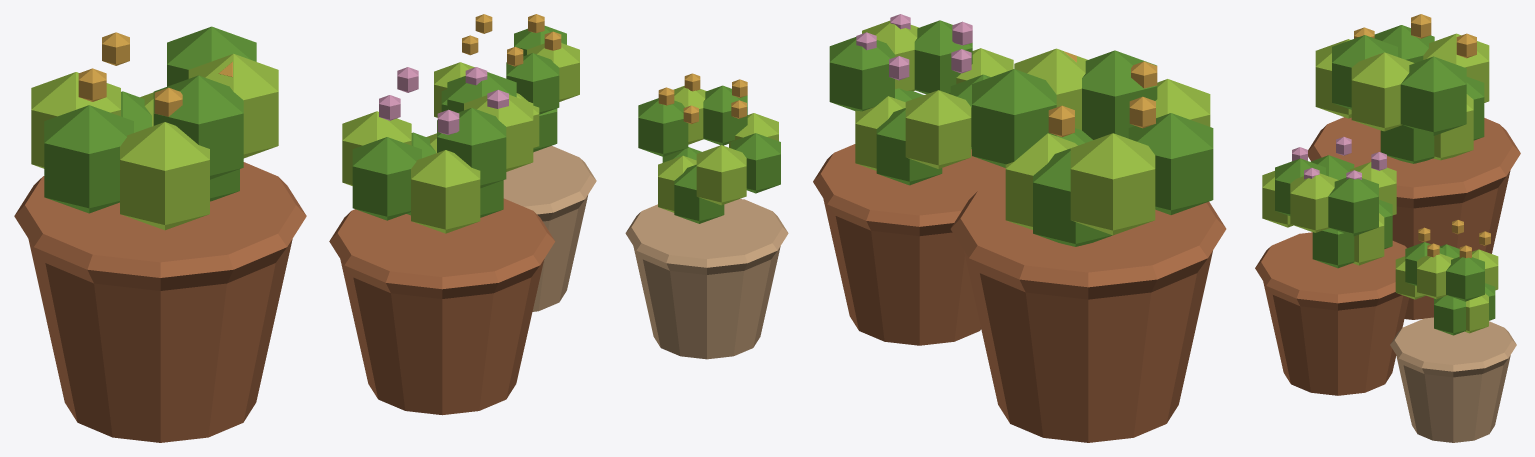
File: terraza_macetas.glb
3 views of the same model, side by side, from view 1: azimuth 30°, elevation 25°; view 2: azimuth 150°, elevation 25°; view 3: azimuth 270°, elevation 25° (orthographic). The views are drawn at different scales.
Parts seen in each view (by area): view 1: terraza_macetas; view 2: terraza_macetas; view 3: terraza_macetas.
Part boxes in pixels (x1,y1,x2,y2): terraza_macetas: (14, 14, 596, 442); terraza_macetas: (625, 14, 1226, 442); terraza_macetas: (1255, 14, 1520, 442).
Size of the model in its own units: 1.1 by 0.639 by 0.599.
